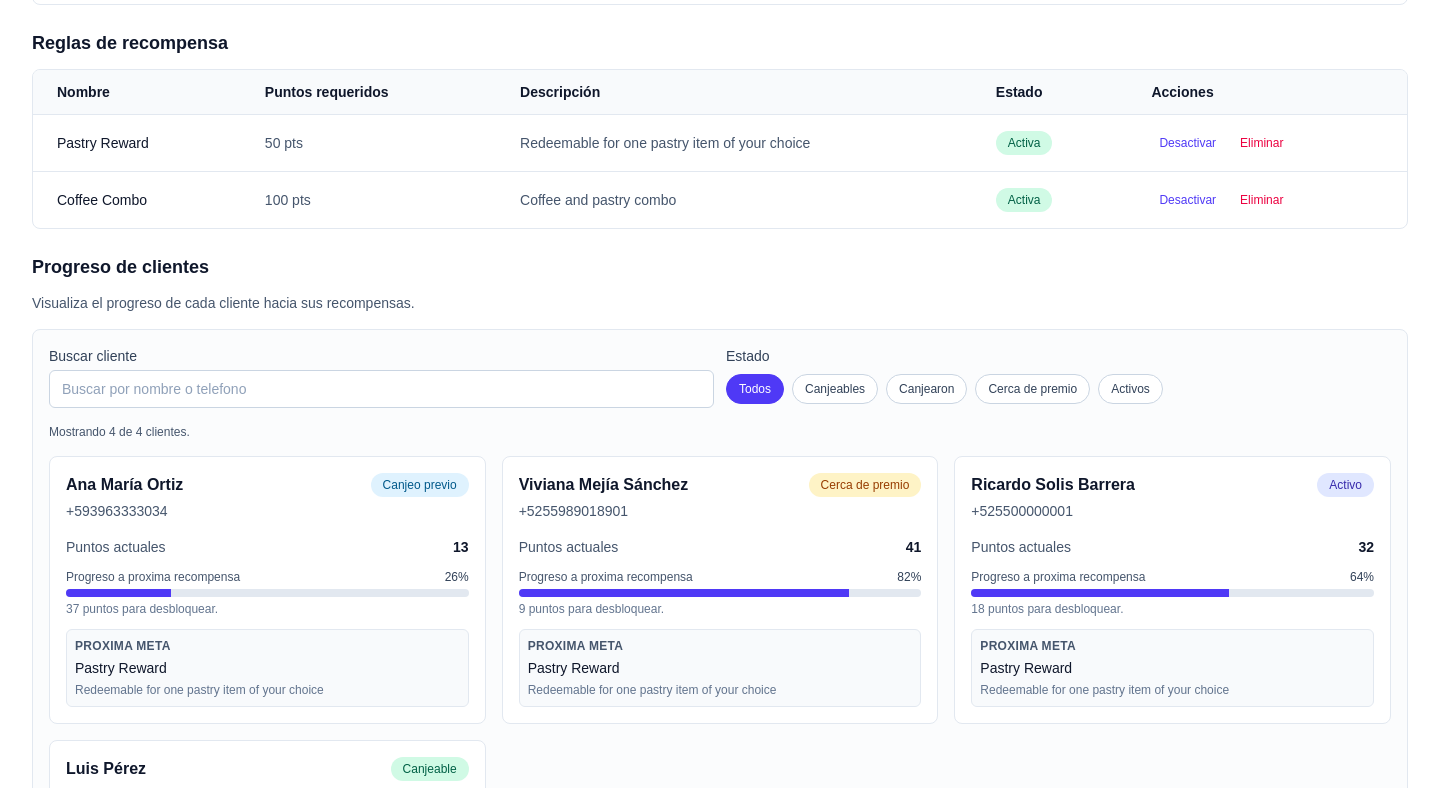
Scenario: DashboardRewardsPage (/dashboard/rewards) › filters by text query (name or phone)
This screenshot has width=1440, height=788.
(page scrolled)
Type "ana" into the search field labelled "Buscar cliente".
click(382, 389); type("ana")  # box 49,370 -> 714,408
(page scrolled)
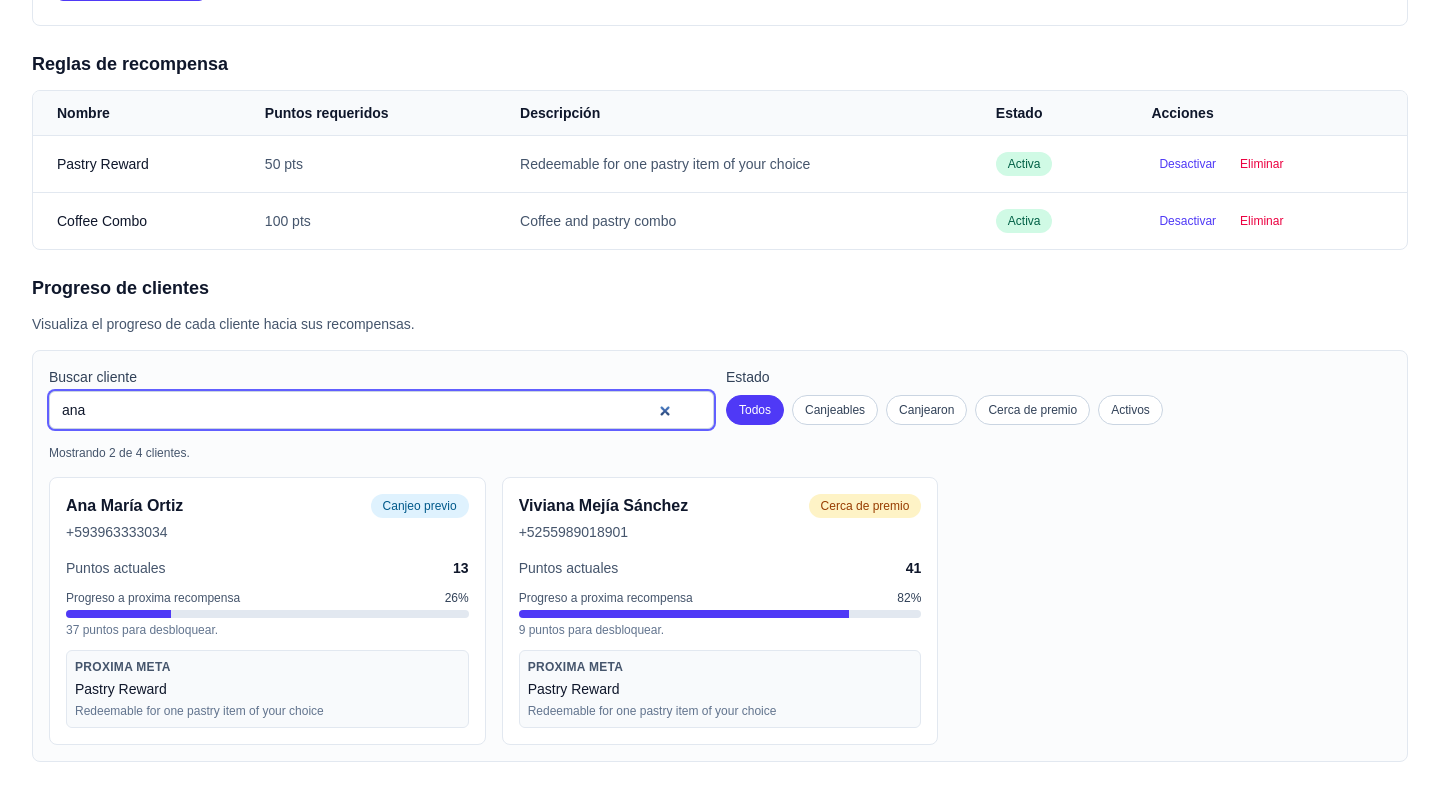
Expected: the heading "Ana María Ortiz" is shown, 66,494 -> 183,518
Now the heading "Ricardo Solis Barrera" is gone
Now the text "Mostrando 2 de 4 clientes." is shown, box 49,446 -> 190,460
